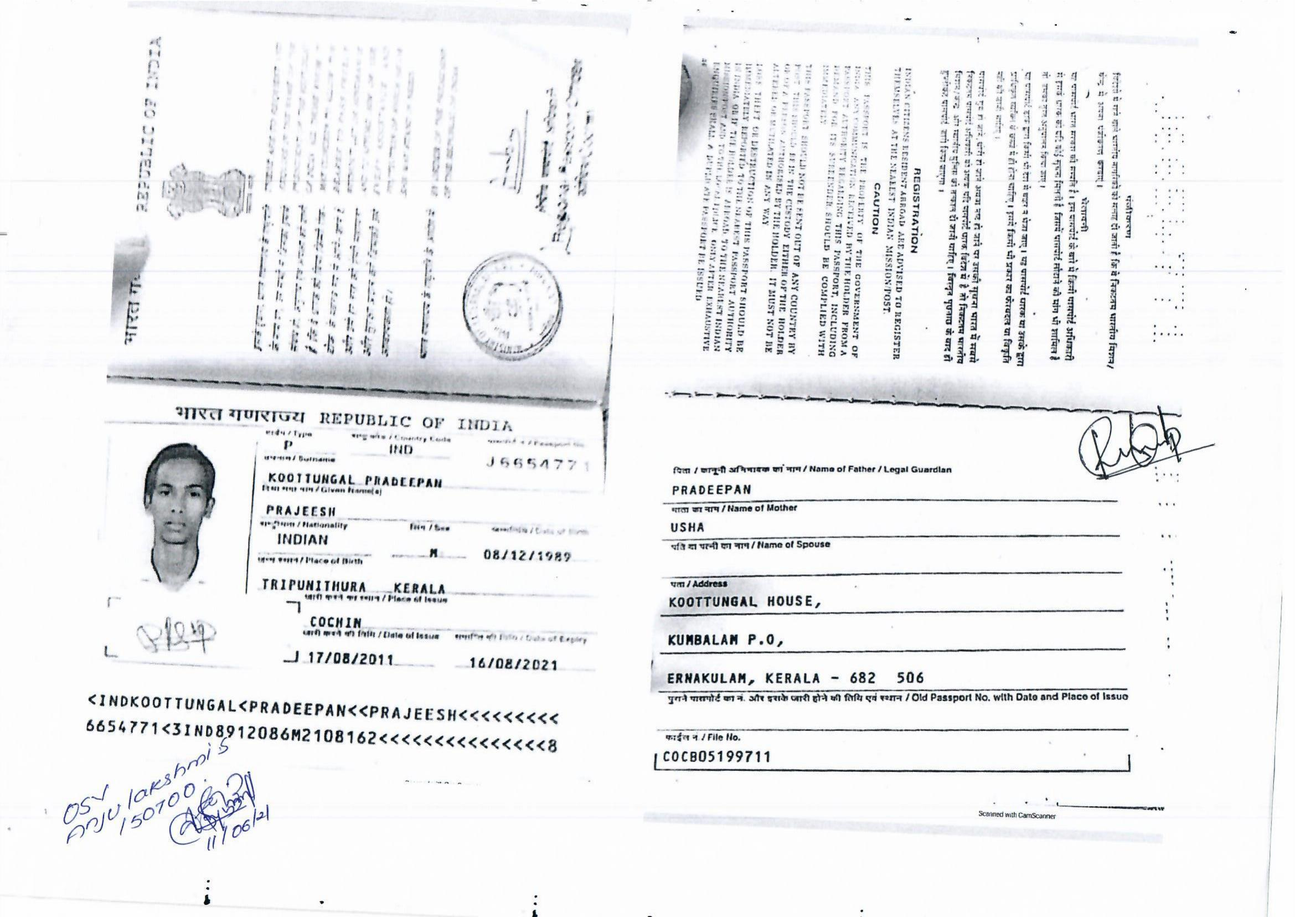DOB: (469, 538, 582, 565)
File_no: (656, 744, 782, 767)
Surname: (265, 465, 450, 497)
address: (663, 580, 941, 698)
country_code: (383, 440, 427, 462)
date_of_expiry: (456, 645, 572, 673)
date_of_issue: (306, 646, 397, 671)
details: (78, 684, 578, 761)
father_name: (661, 470, 767, 502)
mother_name: (667, 515, 713, 539)
name: (249, 498, 347, 515)
nationality: (264, 526, 343, 552)
passport_no: (478, 450, 595, 477)
place_of_birth: (244, 564, 455, 593)
place_of_issue: (305, 608, 374, 635)
sex: (412, 536, 453, 563)
sign: (125, 600, 224, 659)
type: (271, 435, 308, 457)
